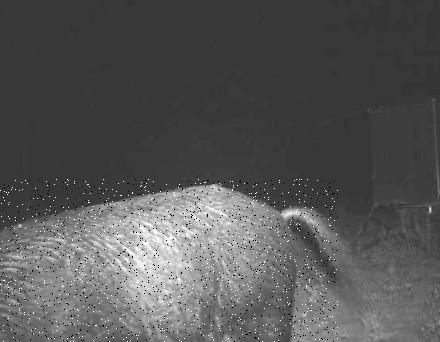Hog: (0, 179, 338, 342)
